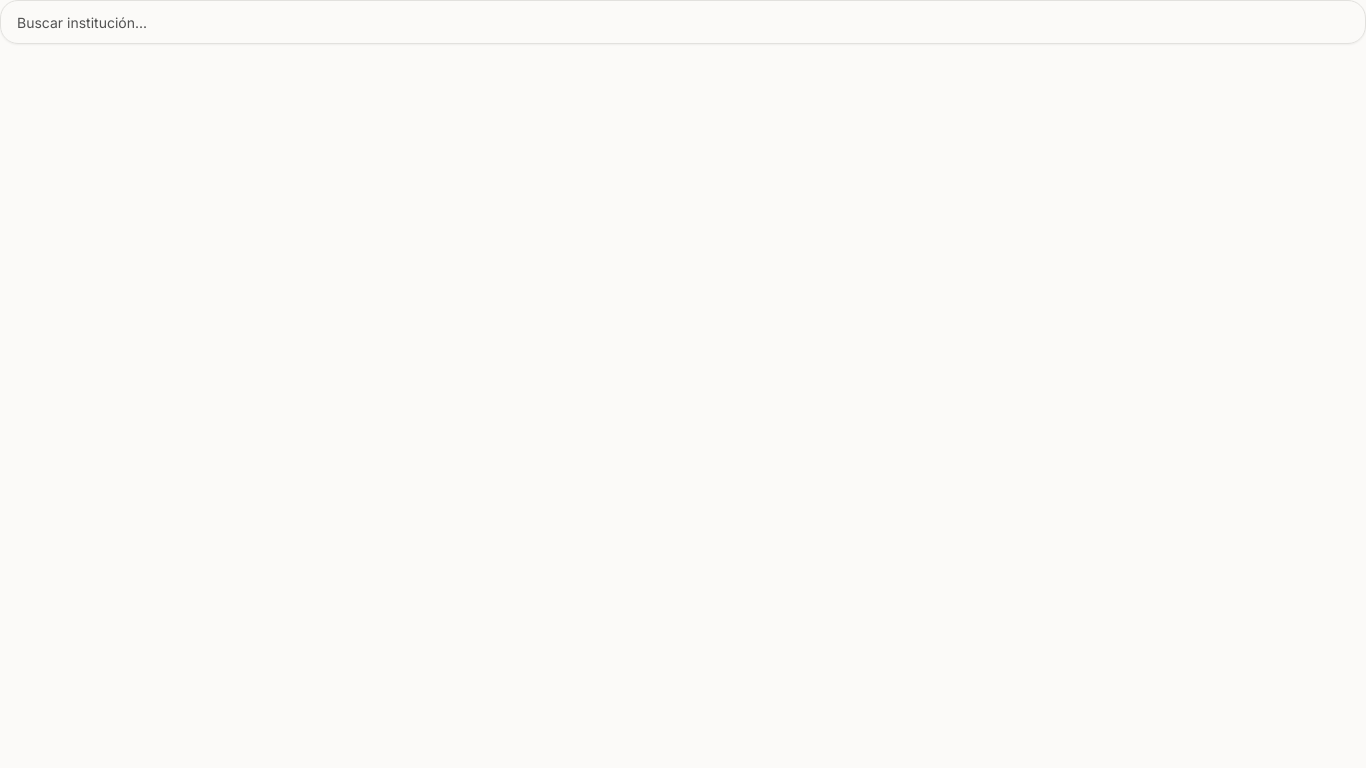
Scenario: InstitucionTypeahead contract › clicking 'Crear' opens the CrearInstitucionInlineModal (Dialog)
Type "Nuevo recurso" into the dropdown with placeholder "Buscar institución..." at point(683, 22), box [0,0,1365,44]
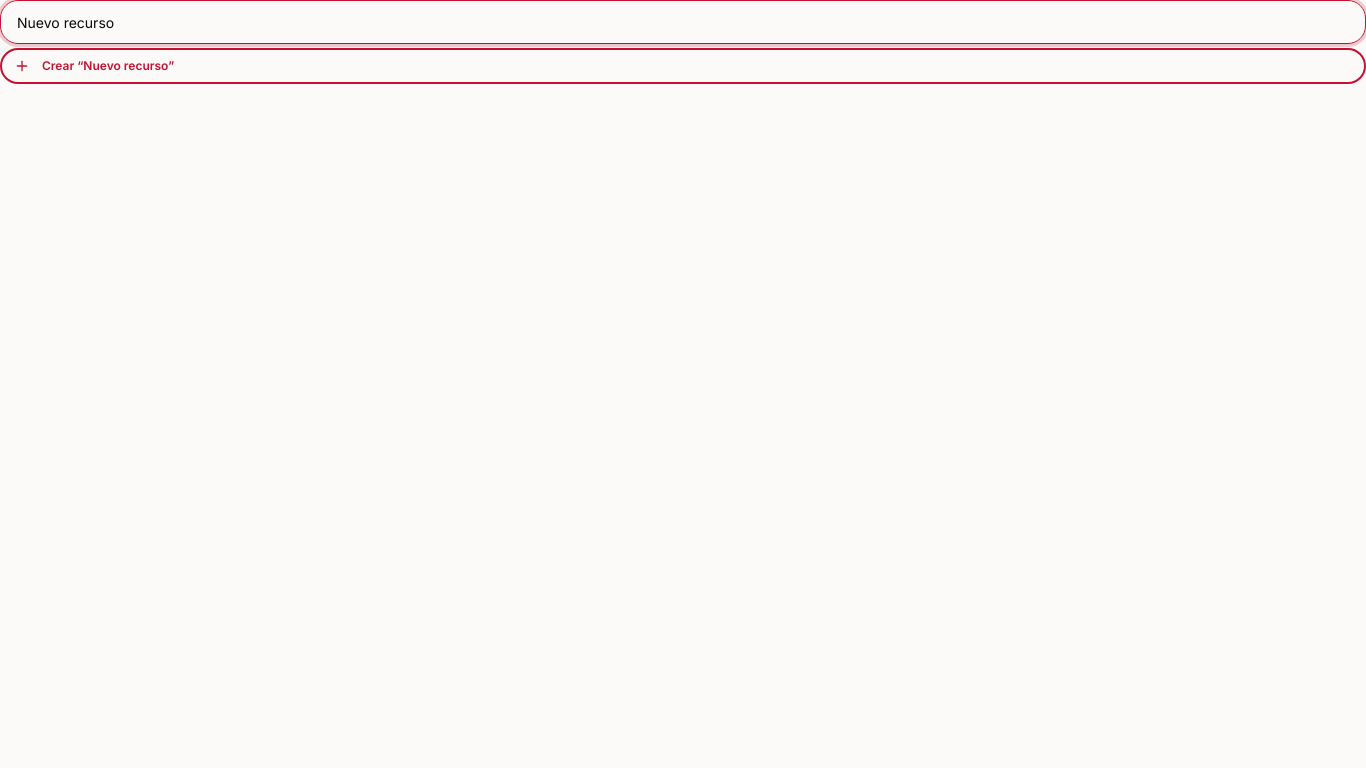
Click the button "Crear “Nuevo recurso”" at point(63, 66), box [0,48,1365,84]
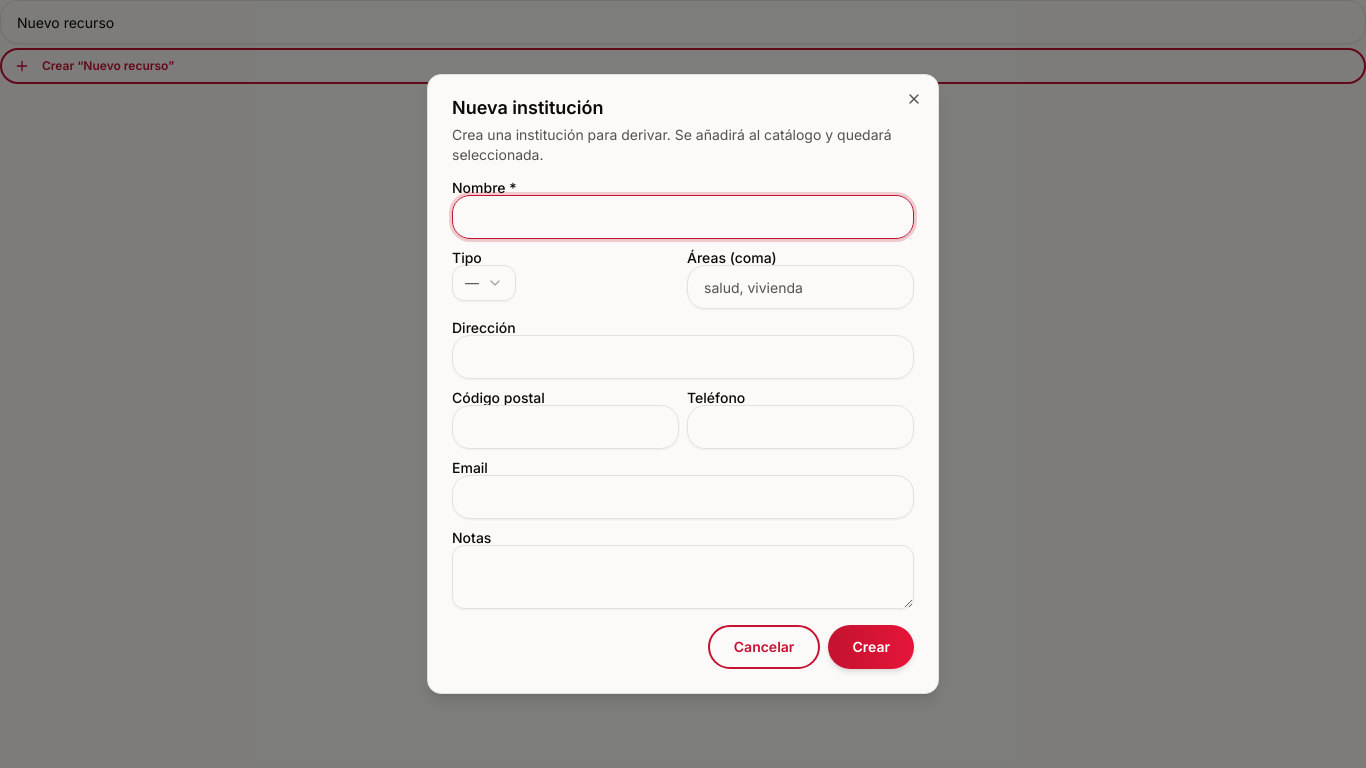
Check: the dialog "Nueva institución" is shown, box [427,74,939,694]
